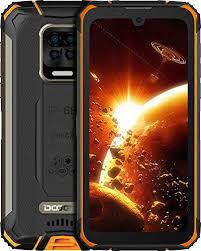Smartphone: (78, 5, 193, 251), (1, 6, 78, 244)
